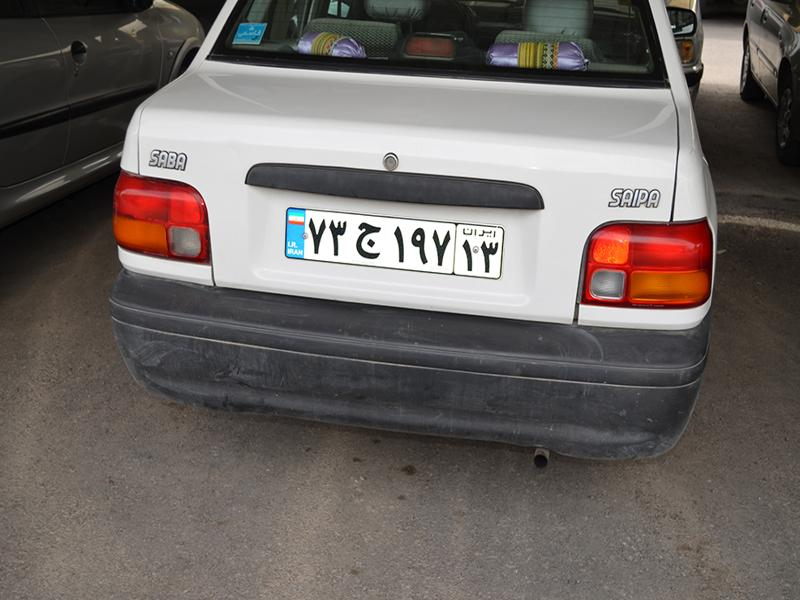Plate: (271, 198, 519, 288)
